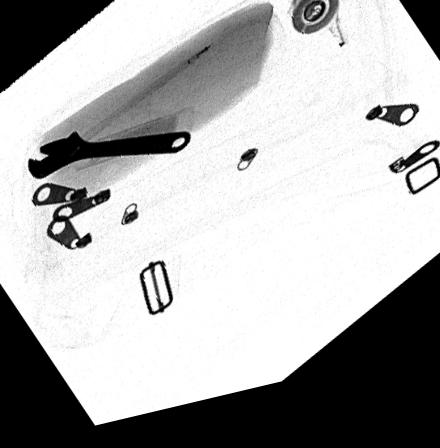Wrench: (27, 132, 192, 182)
